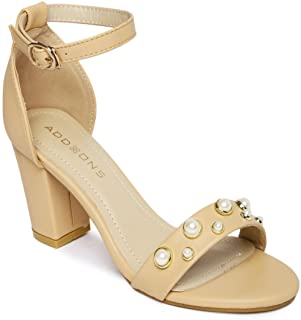shoes: (1, 2, 301, 319)
